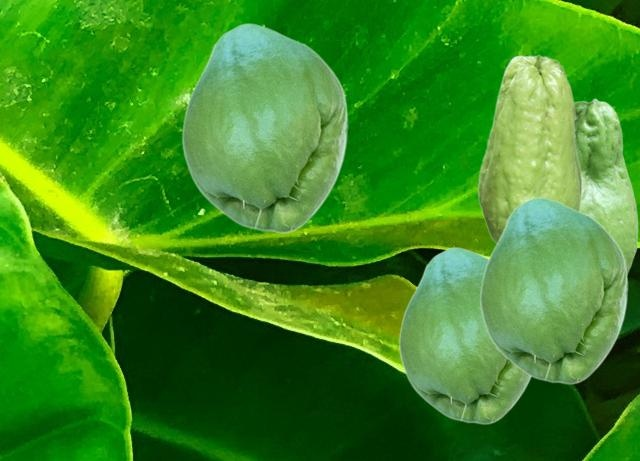sayote: (181, 23, 347, 233), (479, 197, 627, 384), (398, 247, 531, 424), (477, 54, 582, 243), (575, 98, 637, 274)
